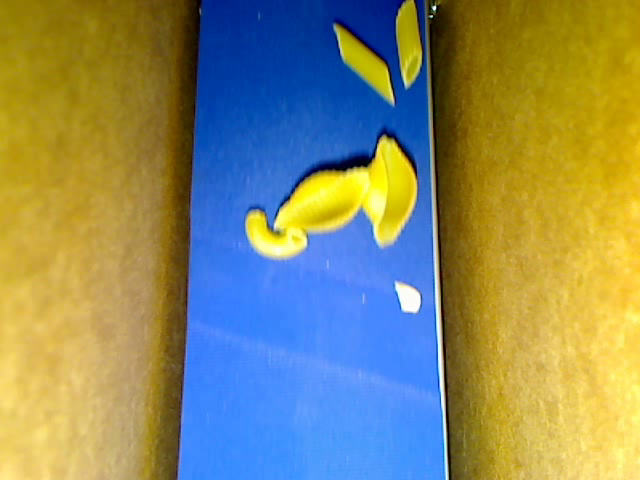elbow: (244, 208, 307, 261)
penne: (332, 25, 395, 105), (394, 1, 422, 90)
shell: (271, 167, 371, 234), (359, 136, 418, 246)
